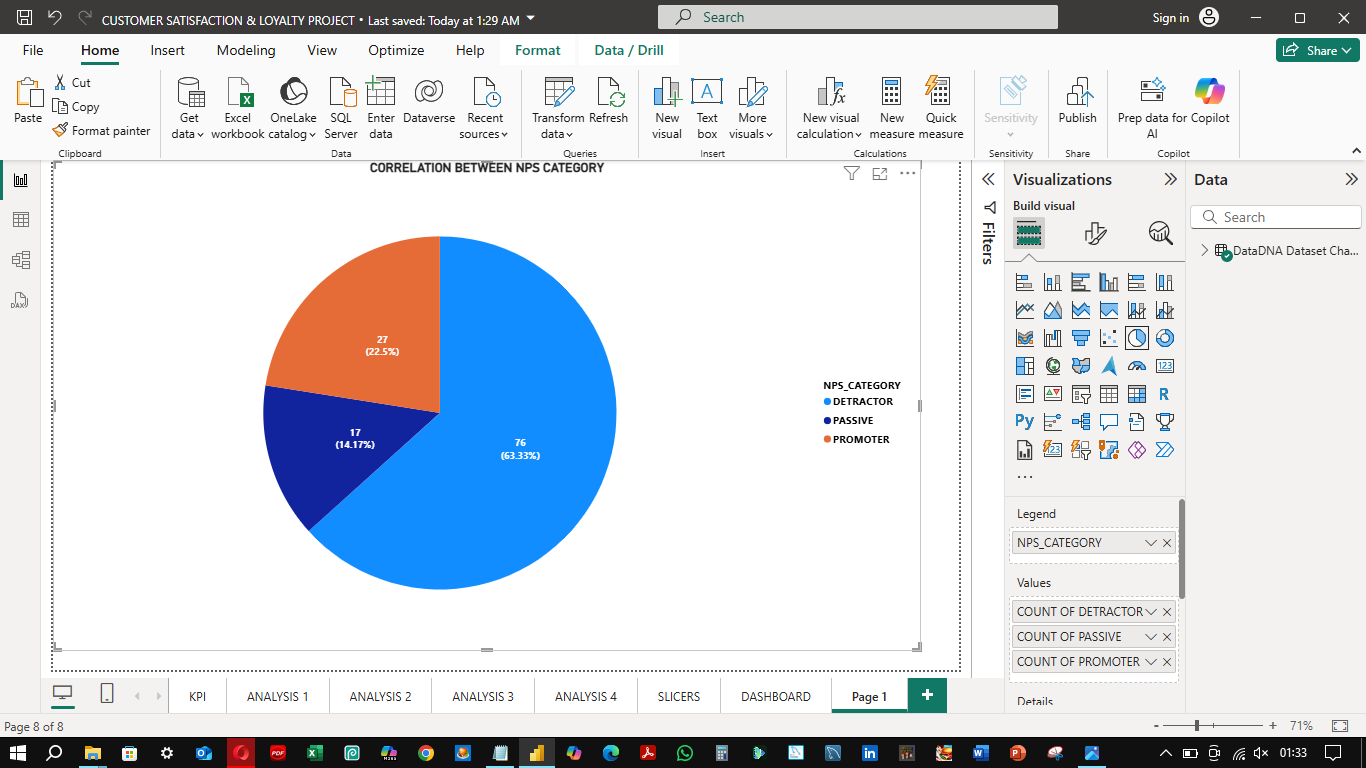

The dashboard page shown, as its layout file describes it:
{"tool":"powerbi","page":{"name":"ANALYSIS 4","canvas":[1280,720],"ordinal":4},"visuals":[{"type":"pieChart","title":"CORRELATION BETWEEN NPS CATEGORY","fields":{"Category":["DataDNA Dataset Challenge - Cus.NPS_CATEGORY"],"Y":["DataDNA Dataset Challenge - Cus.COUNT OF DETRACTOR","DataDNA Dataset Challenge - Cus.COUNT OF PASSIVE","DataDNA Dataset Challenge - Cus.COUNT OF PROMOTER"]},"box":[0,0,564.7,328.9],"z":0}]}

Visuals, with their boxes on the page's 1280x720 design canvas (x1, y1, x2, y2). These are canvas units, not pixel positions in the 1366x768 screenshot, which may show the page scaled, cropped or inside an application window:
"CORRELATION BETWEEN NPS CATEGORY" pieChart: left=0, top=0, right=565, bottom=329
